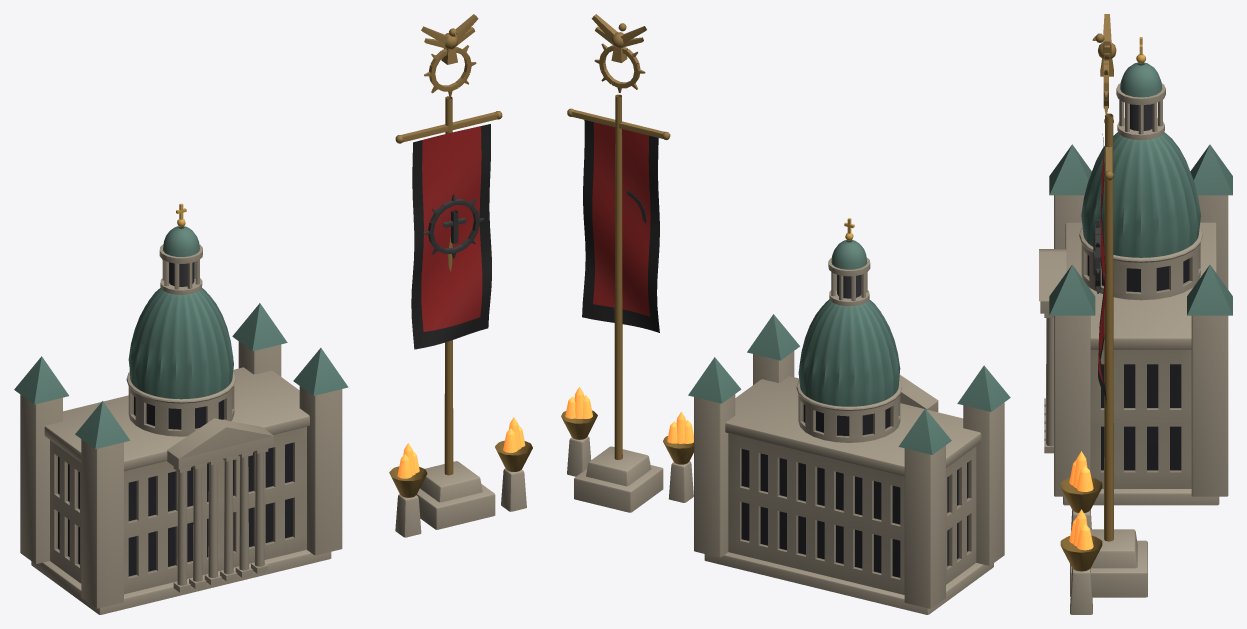
Rendered from landmark_berlin_solo.glb.
3 renders of one model, left to right at view 1: azimuth 30°, elevation 25°; view 2: azimuth 150°, elevation 25°; view 3: azimuth 270°, elevation 25°, orthographic. The views are drawn at different scales.
Parts seen in each view (by area): view 1: Reichstag_Stone, Banner_Cloth, Reichstag_Portico, Reichstag_Dome, Banner_Base, Reichstag_Roofs, Banner_Pole, Reichstag_Lantern, Banner_Emblem; view 2: Reichstag_Stone, Banner_Cloth, Reichstag_Dome, Banner_Base, Banner_Pole, Reichstag_Roofs, Reichstag_Lantern, Reichstag_Portico; view 3: Reichstag_Stone, Reichstag_Dome, Banner_Base, Reichstag_Roofs, Banner_Pole, Reichstag_Lantern, Reichstag_Portico, Banner_Cloth, Banner_Emblem.
Boxes of the visible parts, box(x1,y1,x2,y2) form: Reichstag_Stone: box(20, 341, 342, 614); Banner_Cloth: box(411, 124, 491, 349); Reichstag_Portico: box(167, 418, 273, 592); Reichstag_Dome: box(128, 287, 233, 399); Banner_Base: box(389, 417, 532, 537); Reichstag_Roofs: box(14, 303, 348, 449); Banner_Pole: box(395, 14, 502, 475); Reichstag_Lantern: box(159, 203, 202, 294); Banner_Emblem: box(423, 194, 484, 258); Reichstag_Stone: box(694, 351, 1004, 614); Banner_Cloth: box(582, 120, 659, 332); Reichstag_Dome: box(798, 299, 900, 406); Banner_Base: box(561, 387, 693, 512); Banner_Pole: box(567, 14, 670, 459); Reichstag_Roofs: box(688, 314, 1010, 454); Reichstag_Lantern: box(828, 218, 870, 306); Reichstag_Portico: box(899, 375, 938, 411); Reichstag_Stone: box(1054, 195, 1228, 505); Reichstag_Dome: box(1081, 132, 1200, 257); Banner_Base: box(1060, 451, 1147, 614); Reichstag_Roofs: box(1049, 144, 1232, 315); Banner_Pole: box(1092, 14, 1116, 541); Reichstag_Lantern: box(1116, 37, 1165, 140); Reichstag_Portico: box(1039, 249, 1066, 453); Banner_Cloth: box(1098, 134, 1107, 405); Banner_Emblem: box(1093, 219, 1100, 293).
Size of the model in its own units: 1.28 by 1.33 by 0.4225.
